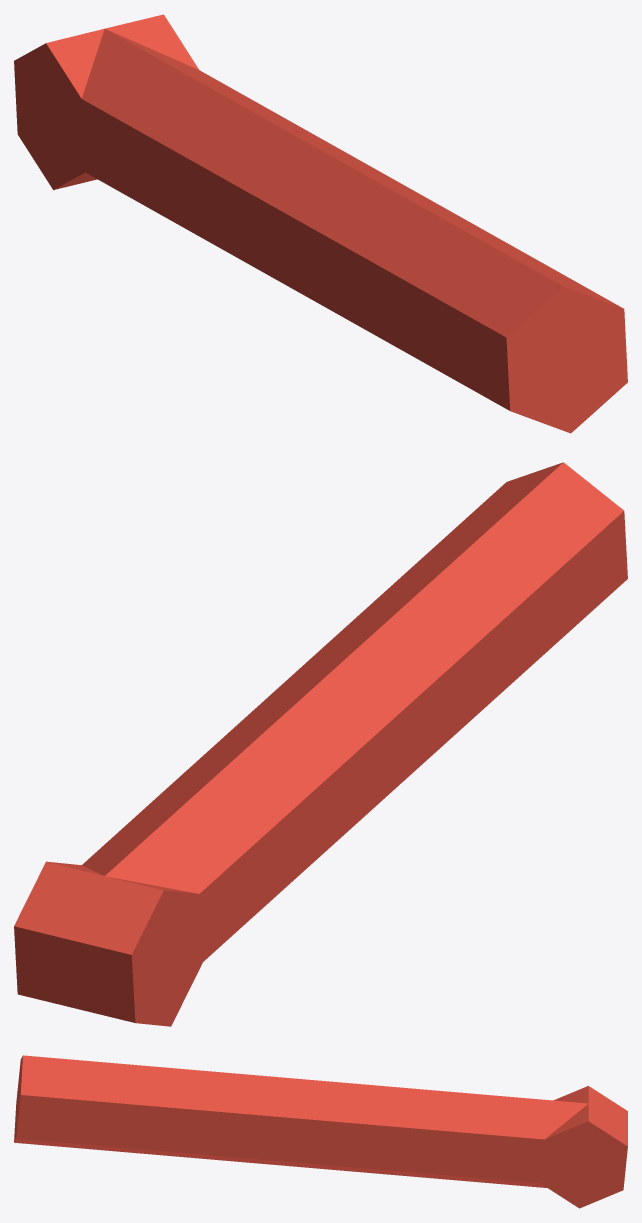
Rendered from SM_Telehandler_Arm_Piston_Base_A.fbx.
3 renders of one model, top to bottom at view 1: azimuth 30°, elevation 25°; view 2: azimuth 150°, elevation 25°; view 3: azimuth 270°, elevation 25°, orthographic. The views are drawn at different scales.
Visible parts, largest first — view 1: SM_Telehandler_Arm_Piston_Base_A; view 2: SM_Telehandler_Arm_Piston_Base_A; view 3: SM_Telehandler_Arm_Piston_Base_A.
Boxes of the visible parts, left/top/right/bottom form: SM_Telehandler_Arm_Piston_Base_A: left=14, top=14, right=627, bottom=433; SM_Telehandler_Arm_Piston_Base_A: left=14, top=462, right=627, bottom=1026; SM_Telehandler_Arm_Piston_Base_A: left=14, top=1055, right=627, bottom=1208.
Bounding box in the file's own units: 113 × 15.4 × 27.44.
